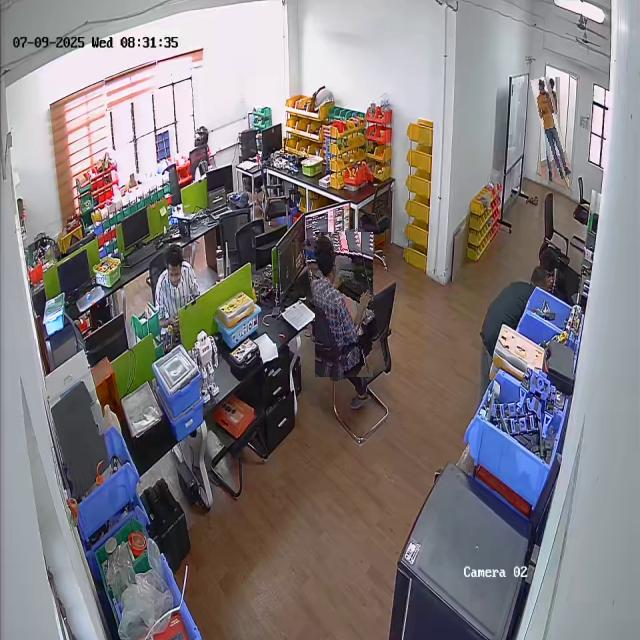person: (308, 230, 381, 379), (154, 242, 202, 330), (535, 77, 566, 180)
